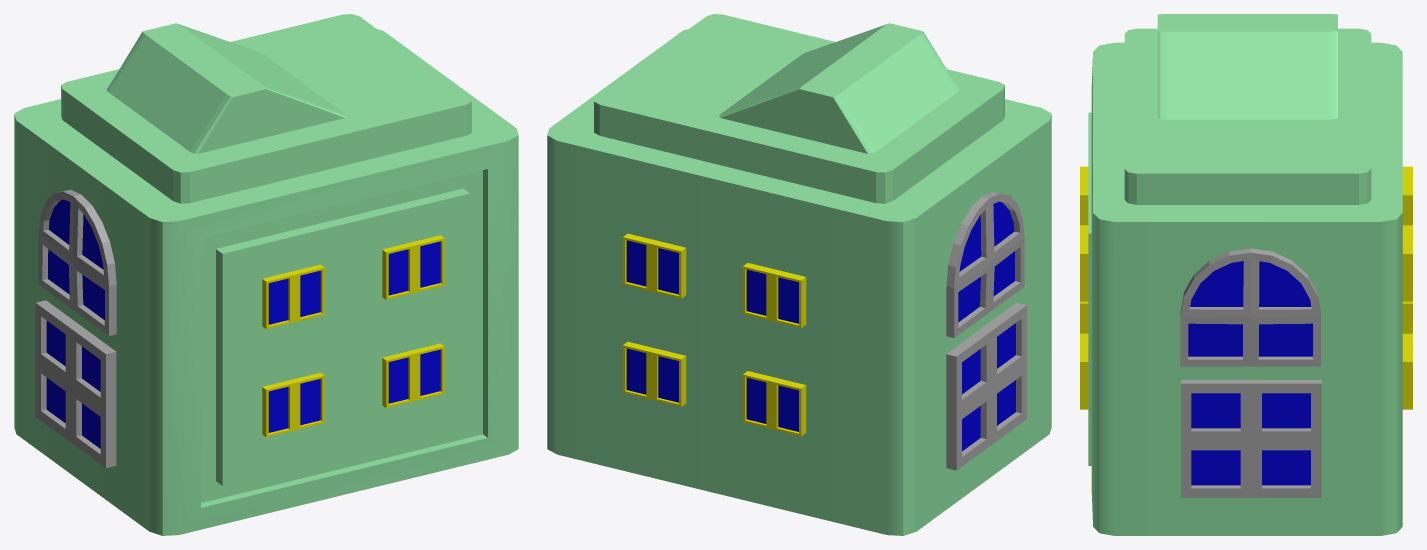
3 views of the same model, side by side, from view 1: azimuth 30°, elevation 25°; view 2: azimuth 150°, elevation 25°; view 3: azimuth 270°, elevation 25° (orthographic).
Parts seen in each view (by area): view 1: pCube78, pCube136, pCube135, pCube6, pCube103, pCube102, pCube101; view 2: pCube78, pCube136, pCube135, pCube107, pCube105, pCube106, pCube104; view 3: pCube78, pCube100, pCube99, pCube104, pCube105, pCube101, pCube102, pCube106, pCube6.
Part boxes in pixels (x1=…): pCube78: x1=14, y1=14, x2=518, y2=535; pCube136: x1=35, y1=300, x2=116, y2=468; pCube135: x1=38, y1=189, x2=116, y2=335; pCube6: x1=262, y1=264, x2=324, y2=329; pCube103: x1=262, y1=372, x2=324, y2=437; pCube102: x1=382, y1=343, x2=444, y2=407; pCube101: x1=382, y1=235, x2=444, y2=299; pCube78: x1=547, y1=14, x2=1051, y2=535; pCube136: x1=946, y1=302, x2=1026, y2=470; pCube135: x1=946, y1=192, x2=1024, y2=337; pCube107: x1=742, y1=371, x2=806, y2=436; pCube105: x1=622, y1=341, x2=686, y2=406; pCube106: x1=742, y1=263, x2=806, y2=327; pCube104: x1=622, y1=233, x2=686, y2=298; pCube78: x1=1088, y1=14, x2=1402, y2=535; pCube100: x1=1181, y1=380, x2=1321, y2=497; pCube99: x1=1180, y1=248, x2=1320, y2=366; pCube104: x1=1402, y1=225, x2=1412, y2=301; pCube105: x1=1402, y1=333, x2=1412, y2=409; pCube101: x1=1080, y1=225, x2=1088, y2=301; pCube102: x1=1080, y1=333, x2=1088, y2=409; pCube106: x1=1402, y1=166, x2=1412, y2=225; pCube6: x1=1080, y1=166, x2=1088, y2=225.
Size of the model in its own units: 4877 by 4724 by 3621.
